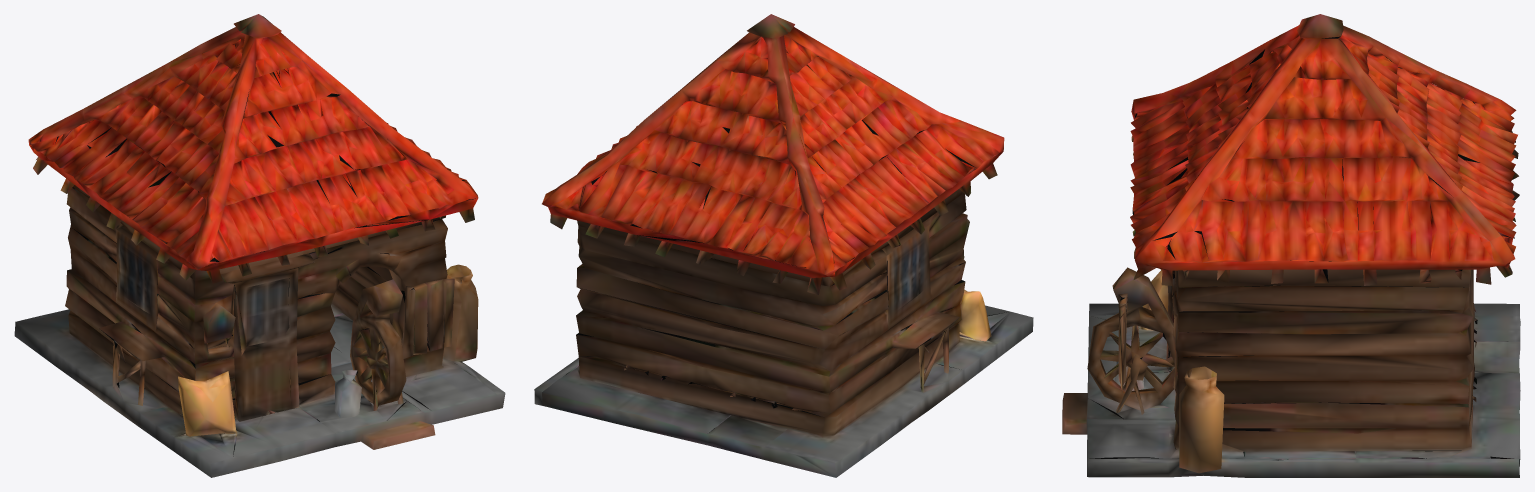
File: grinder-tier-1.glb
The picture shows the model from 3 angles, left to right: view 1: azimuth 30°, elevation 25°; view 2: azimuth 150°, elevation 25°; view 3: azimuth 270°, elevation 25°; orthographic projection. The views are drawn at different scales.
Visible parts, largest first — view 1: building.001; view 2: building.001; view 3: building.001.
Part boxes in pixels (x1,y1,x2,y2): building.001: [14, 14, 505, 477]; building.001: [534, 14, 1033, 477]; building.001: [1062, 14, 1520, 477].
Size of the model in its own units: 3.39 by 3.56 by 3.81.
1 material, 1 textured.
